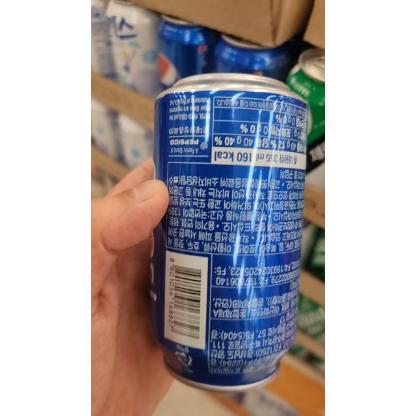Can: (152, 70, 309, 394)
